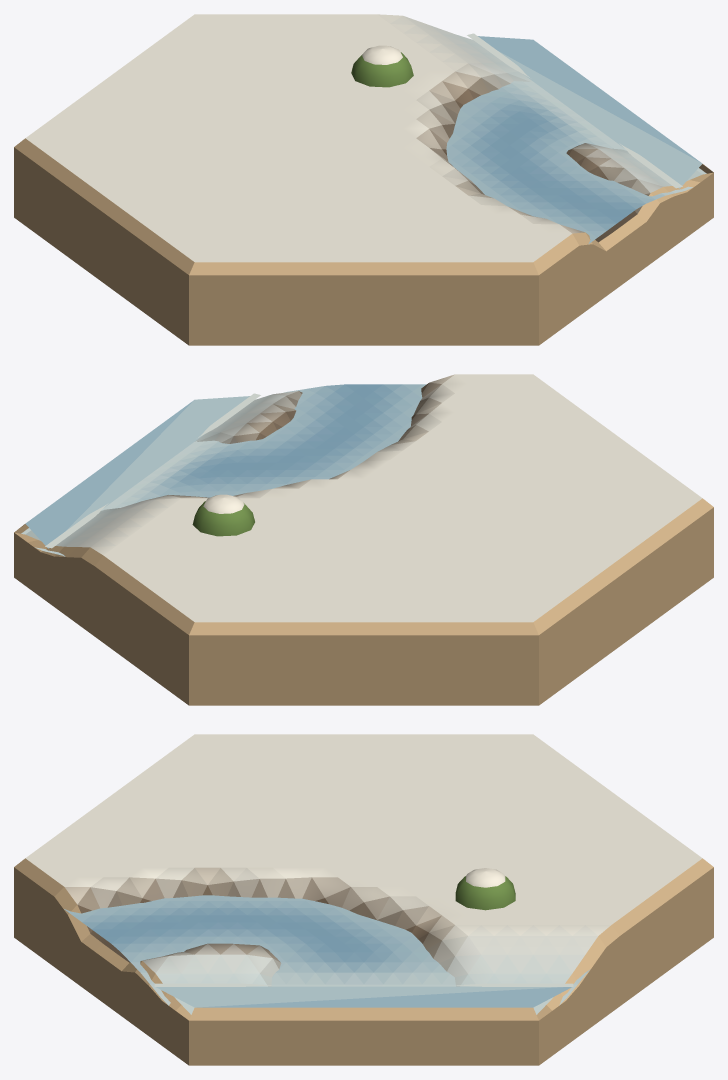
Rendered from estuary_sea1_edge5_snow.fbx.
The picture shows the model from 3 angles, top to bottom: view 1: azimuth 30°, elevation 25°; view 2: azimuth 150°, elevation 25°; view 3: azimuth 270°, elevation 25°; orthographic projection.
Visible parts, largest first — view 1: estuary_sea1_edge5_snow; view 2: estuary_sea1_edge5_snow; view 3: estuary_sea1_edge5_snow.
Part boxes in pixels (x1,y1,x2,y2): estuary_sea1_edge5_snow: [14, 14, 713, 345]; estuary_sea1_edge5_snow: [14, 374, 713, 705]; estuary_sea1_edge5_snow: [14, 734, 713, 1065].
Bounding box in the file's own units: 1.73 × 0.331 × 2.
